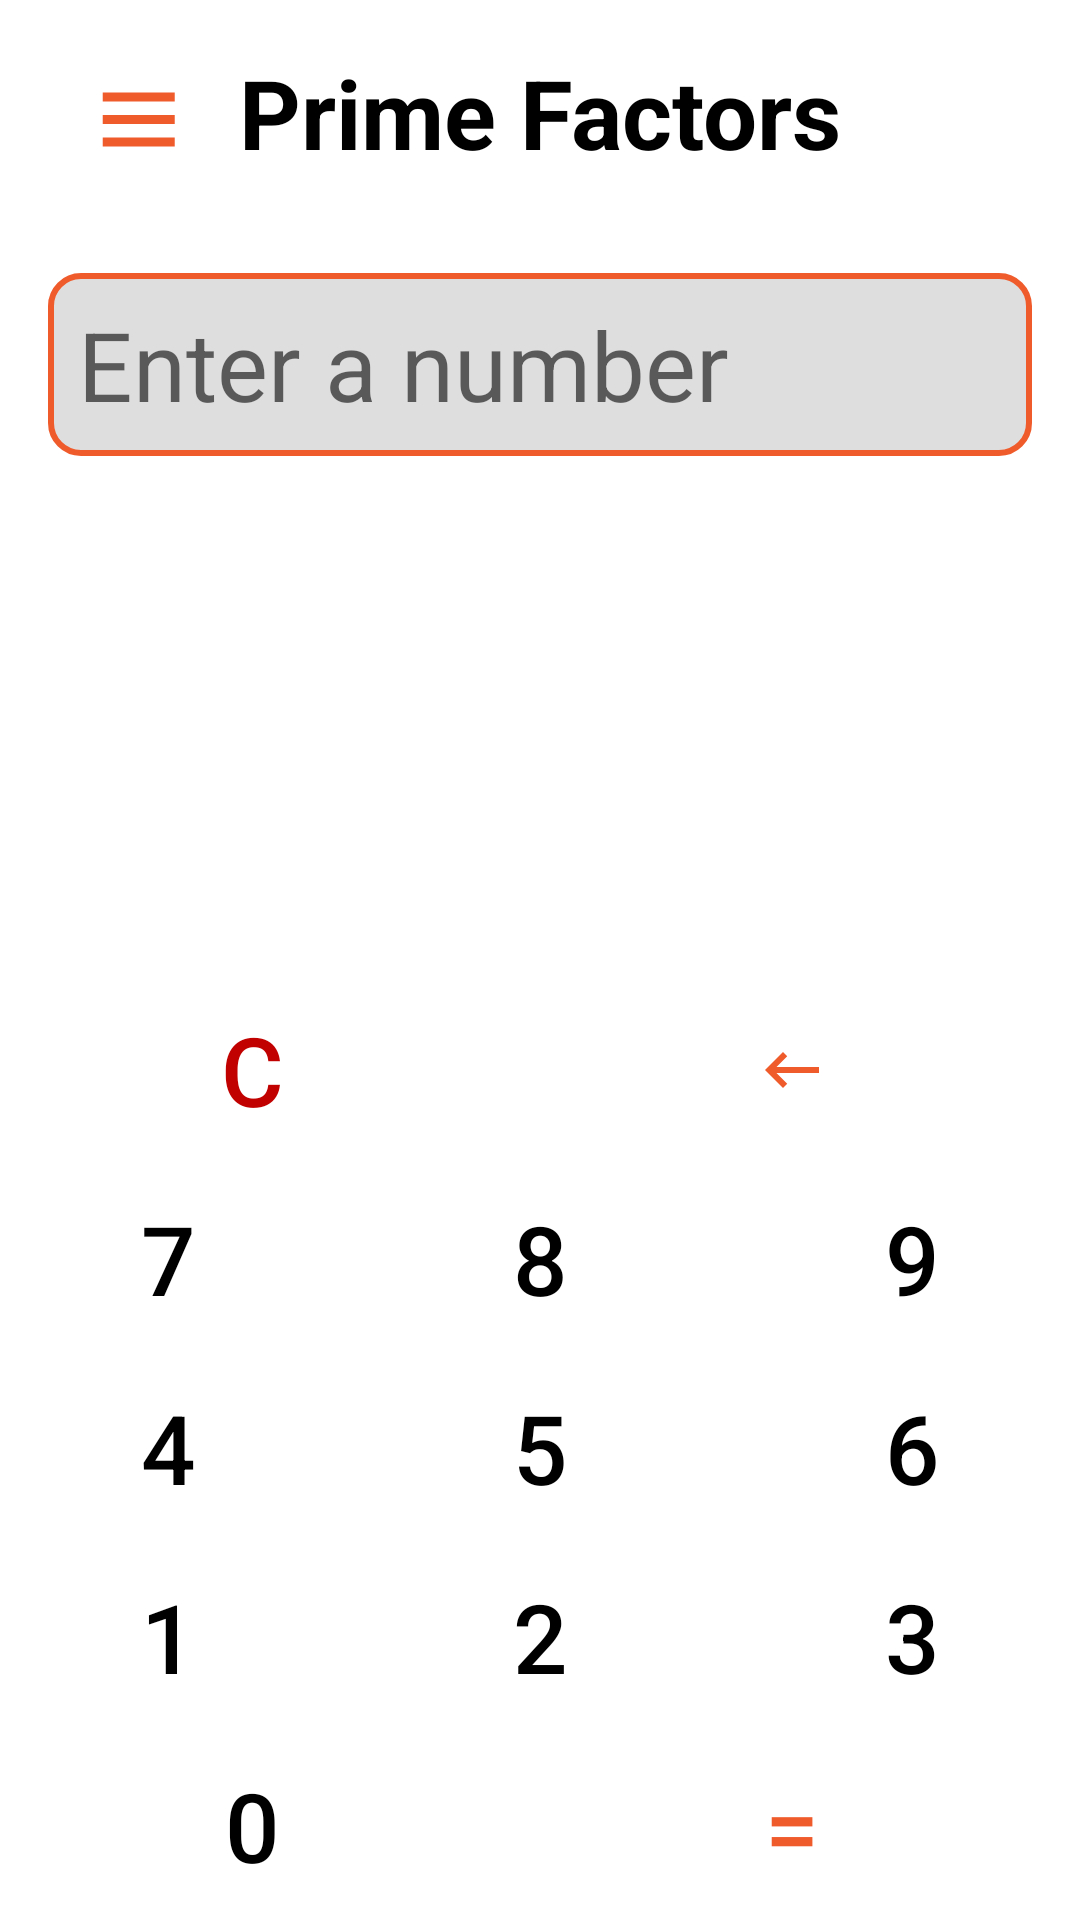

Named icons in this screenshot (1080×1920) and their centers, point (x, y):
backspace: point (792, 1070)
menu: point (138, 119)
